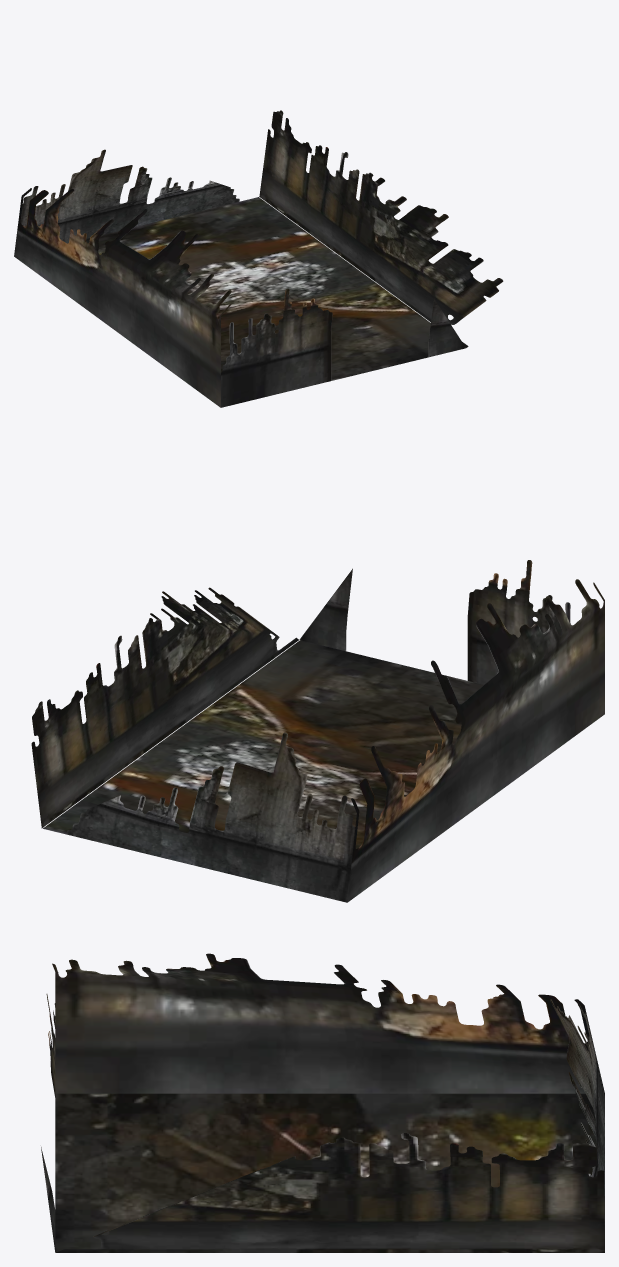
Rendered from singlecivlivingc_dam_hdtex.glb.
3 renders of one model, top to bottom at view 1: azimuth 30°, elevation 25°; view 2: azimuth 150°, elevation 25°; view 3: azimuth 270°, elevation 25°, orthographic. The views are drawn at different scales.
Visible parts, largest first — view 1: Cylinder01; view 2: Cylinder01; view 3: Cylinder01.
Part boxes in pixels (x1=…): Cylinder01: x1=14, y1=110, x2=503, y2=407; Cylinder01: x1=31, y1=560, x2=604, y2=902; Cylinder01: x1=41, y1=953, x2=604, y2=1252.
Size of the model in its own units: 5.71 by 2.53 by 5.72.
1 material, 1 textured.
